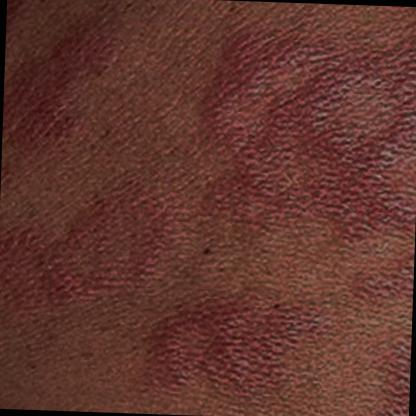Leprosy: (186, 31, 416, 236), (122, 276, 327, 404), (21, 173, 176, 317)
